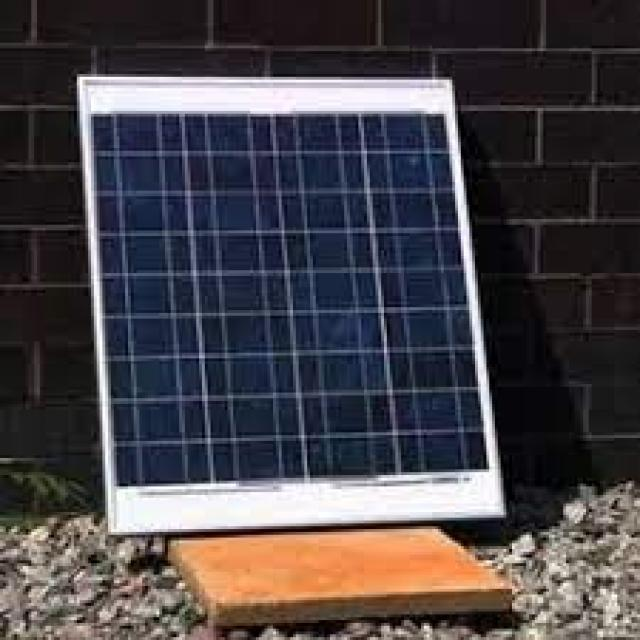no faulty: (77, 98, 479, 514)
